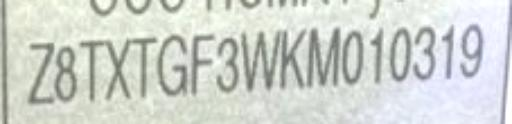letter: (239, 28, 281, 90), (302, 26, 342, 90), (18, 40, 56, 104), (156, 33, 188, 99), (456, 22, 488, 84), (278, 26, 308, 92), (128, 33, 158, 99), (410, 20, 440, 84), (76, 38, 106, 102), (188, 31, 216, 99), (340, 24, 368, 88), (104, 35, 130, 99), (52, 42, 78, 104), (386, 25, 412, 84), (214, 35, 240, 93), (365, 24, 387, 86), (437, 22, 457, 86)
